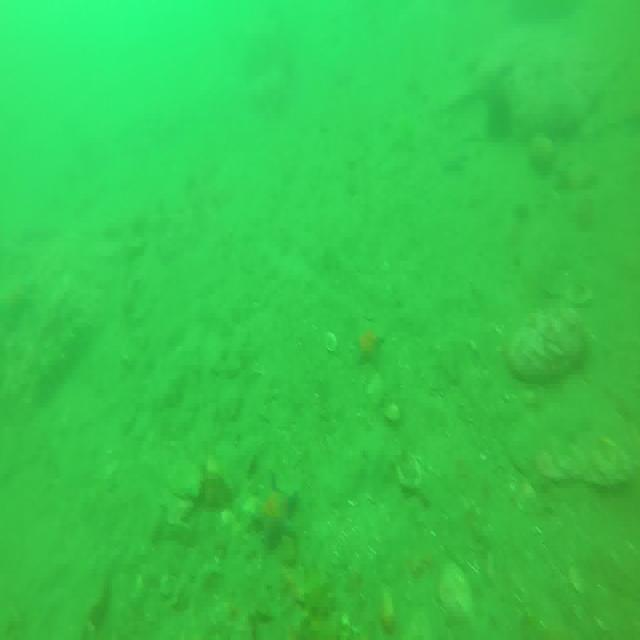starfish: (250, 476, 298, 551), (354, 322, 385, 373), (440, 138, 470, 178)
